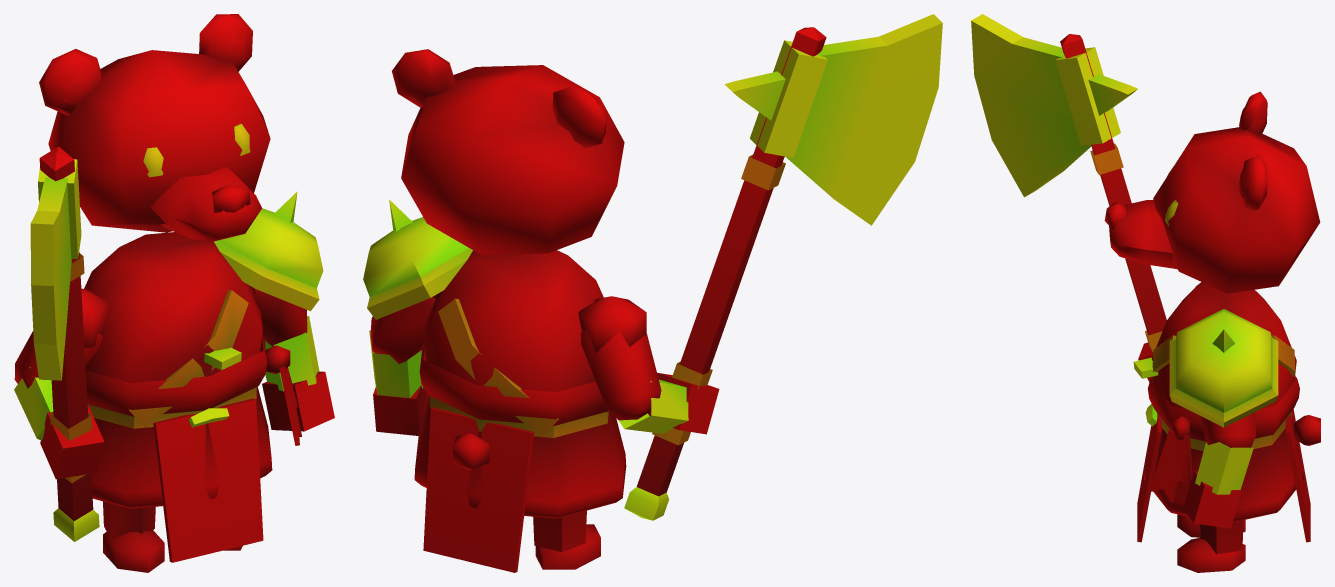
File: BeastmanWarrior_LOD1.glb
3 views of the same model, side by side, from view 1: azimuth 30°, elevation 25°; view 2: azimuth 150°, elevation 25°; view 3: azimuth 270°, elevation 25° (orthographic). The views are drawn at different scales.
Visible parts, largest first — view 1: BeastmanWarrior_LOD1; view 2: BeastmanWarrior_LOD1; view 3: BeastmanWarrior_LOD1.
Part boxes in pixels (box(x1,y1,x2,y2)): BeastmanWarrior_LOD1: box(14, 14, 334, 572); BeastmanWarrior_LOD1: box(363, 14, 942, 572); BeastmanWarrior_LOD1: box(971, 14, 1320, 572).
Size of the model in its own units: 0.7404 by 0.8334 by 0.6112.
